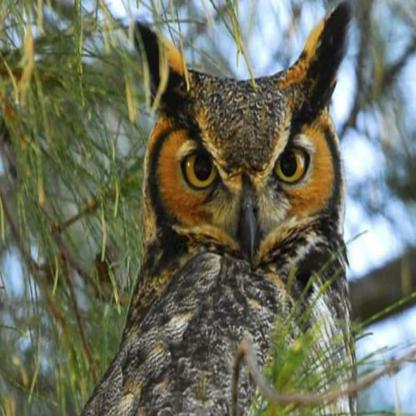owl: (90, 3, 416, 415)
